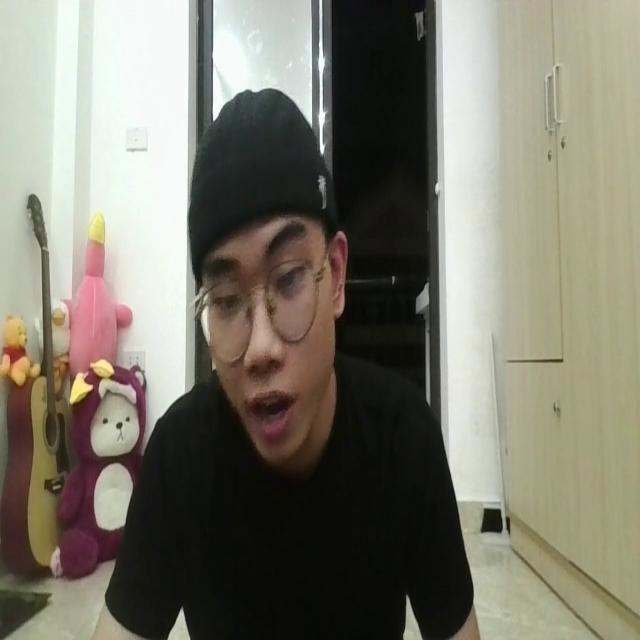student: (88, 90, 477, 640)
